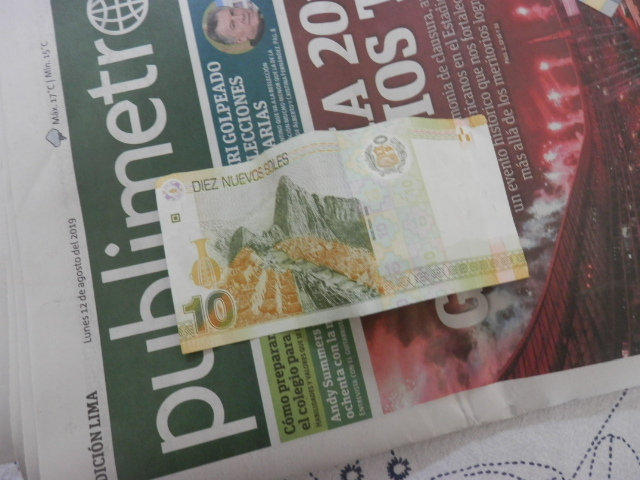B10: (146, 121, 539, 340)
